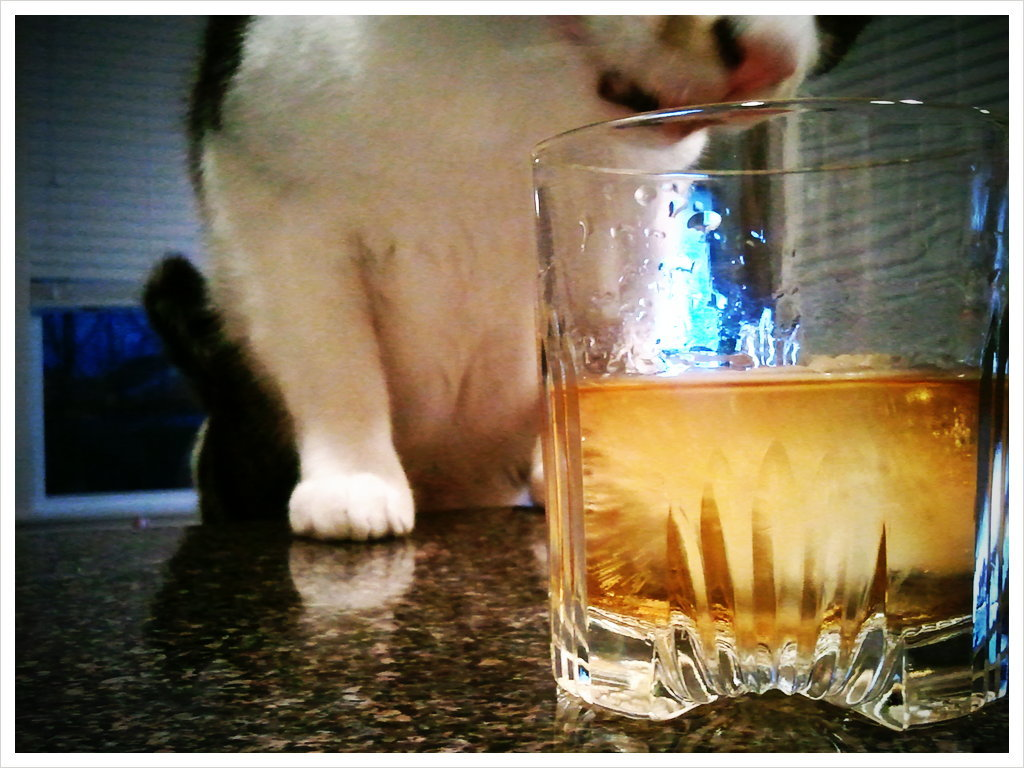Beer: (545, 376, 988, 701)
